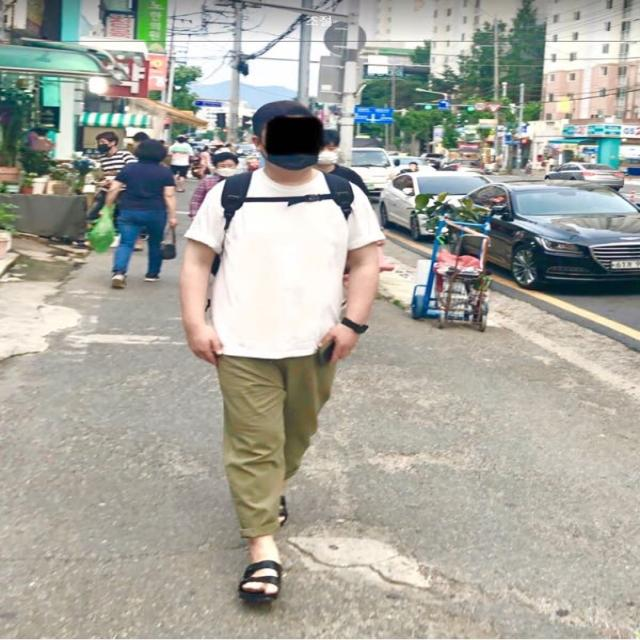cottonpants: (216, 333, 340, 538)
shortsleeve: (181, 167, 382, 361)
